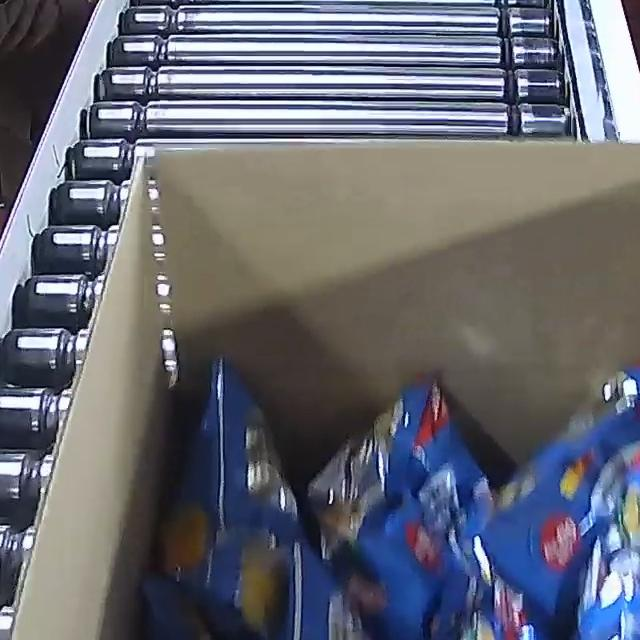paprika: (67, 344, 640, 640)
